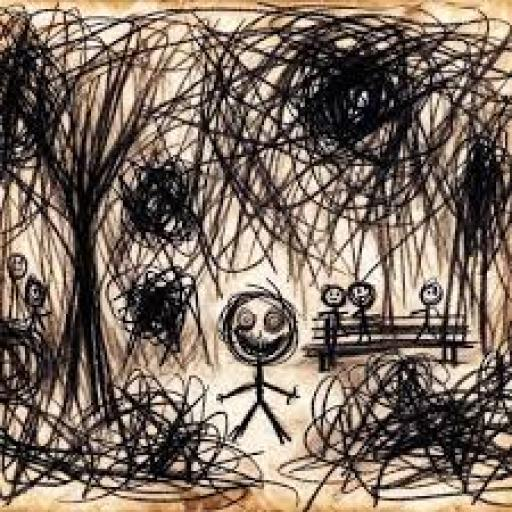person: (198, 280, 320, 457), (310, 267, 358, 380), (343, 276, 393, 360), (406, 278, 458, 350), (21, 274, 65, 357), (8, 243, 36, 331)
